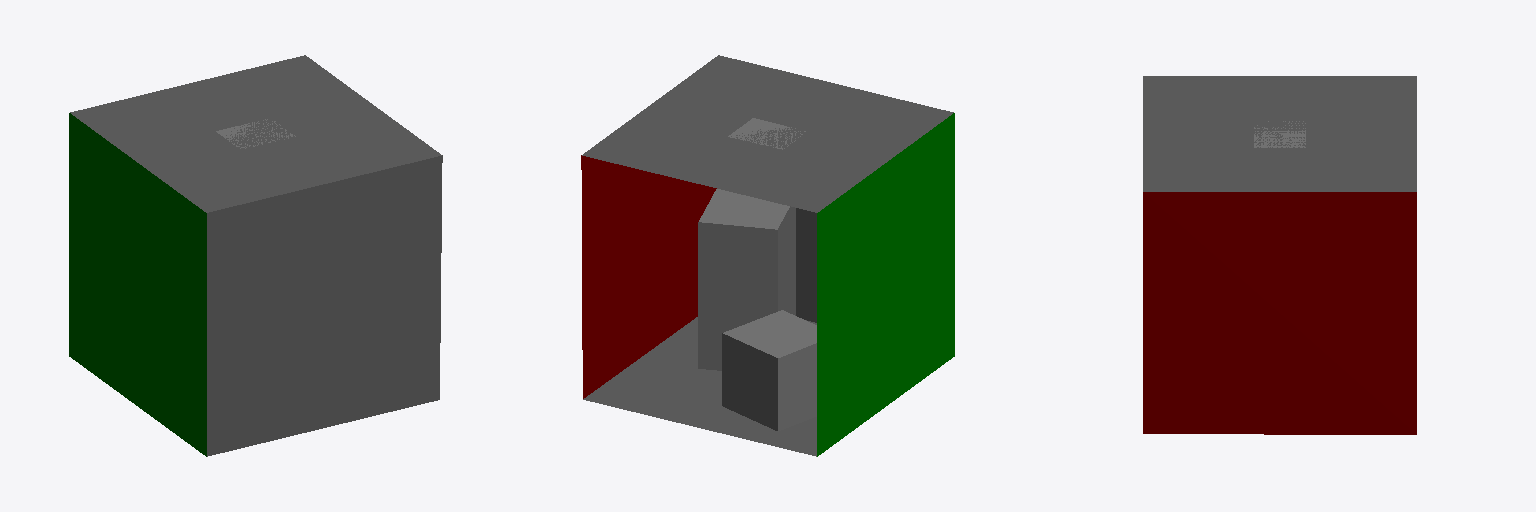
Rendered from cornell_box.obj.
3 renders of one model, left to right at view 1: azimuth 30°, elevation 25°; view 2: azimuth 150°, elevation 25°; view 3: azimuth 270°, elevation 25°, orthographic.
Size of the model in its own units: 556 by 549 by 559.